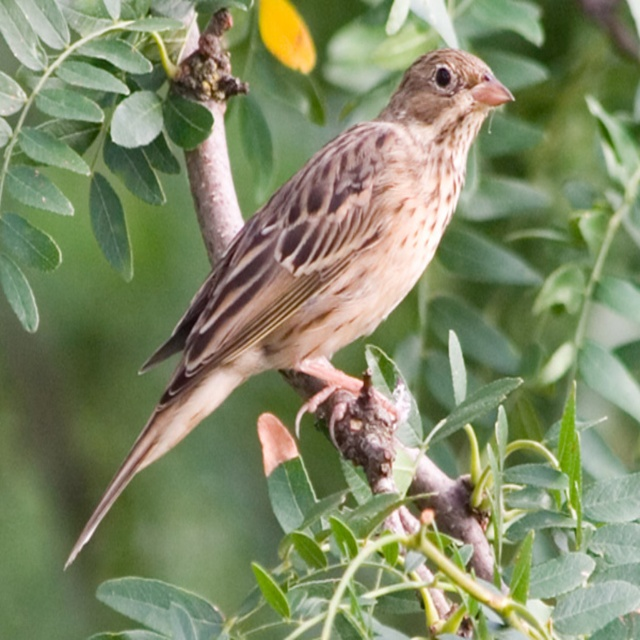Sparrow: (66, 44, 516, 572)
